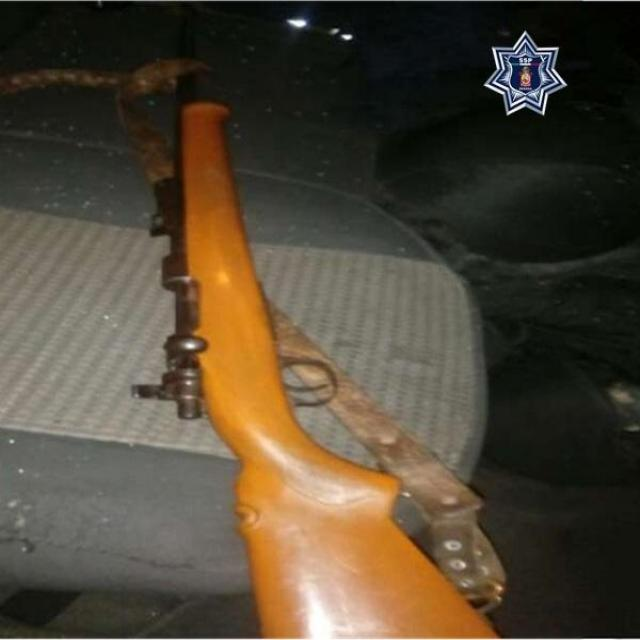weapon: (128, 68, 510, 640)
